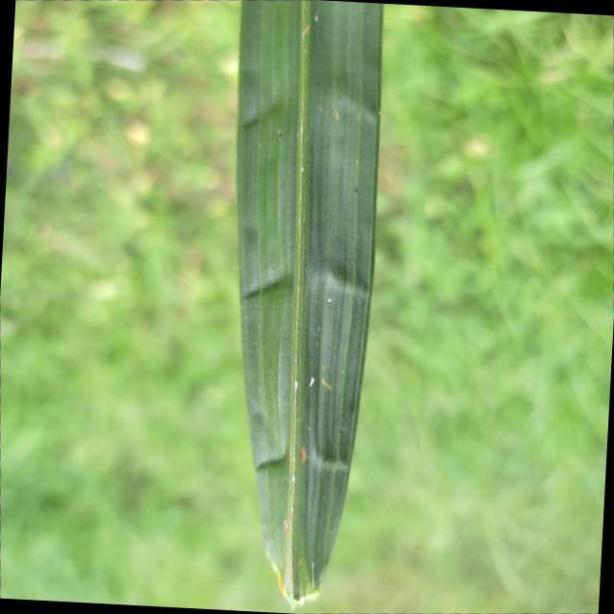Boron: (235, 0, 387, 614)
